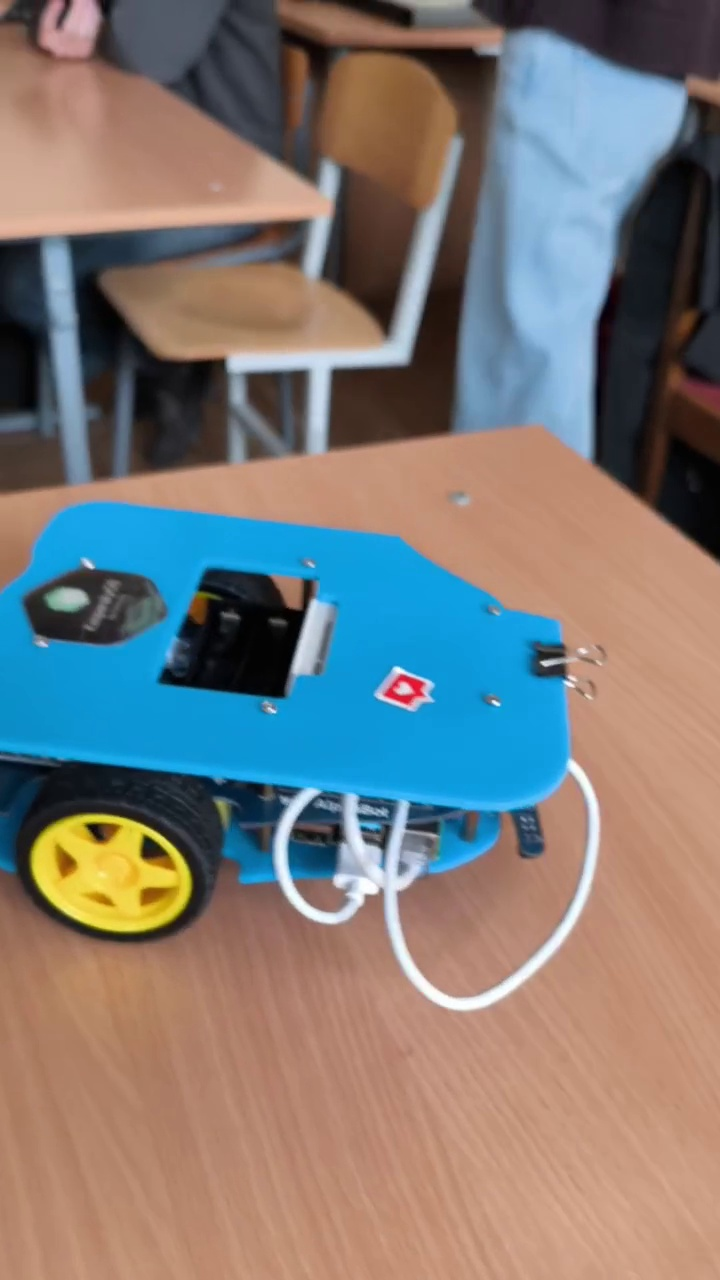robot: (1, 499, 605, 1014)
